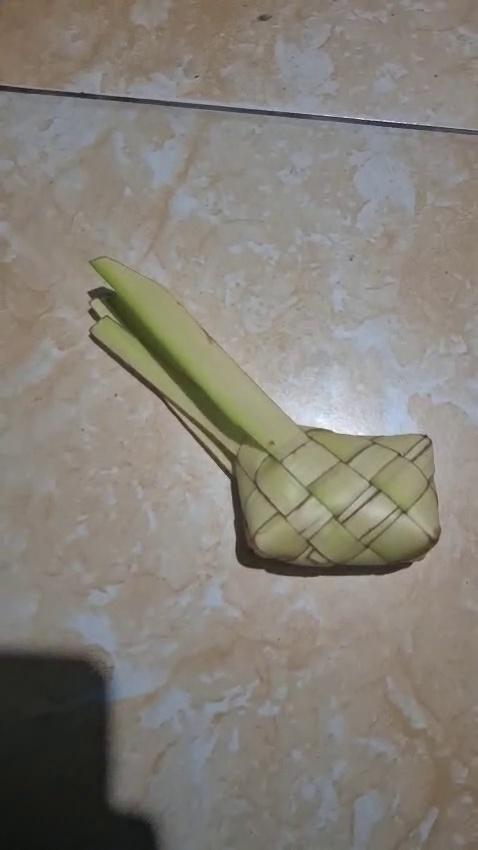Tipat Bantal: (83, 250, 436, 572)
